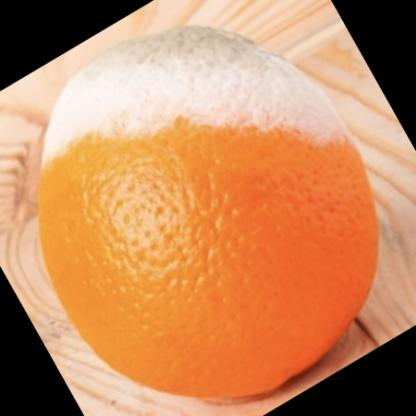rotten: (40, 28, 379, 408)
